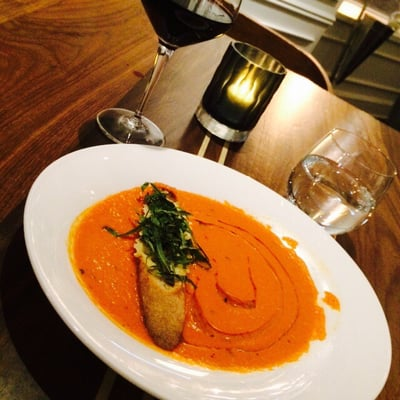pizza: (286, 120, 398, 236), (194, 41, 287, 145)
sushi: (23, 140, 375, 400)
